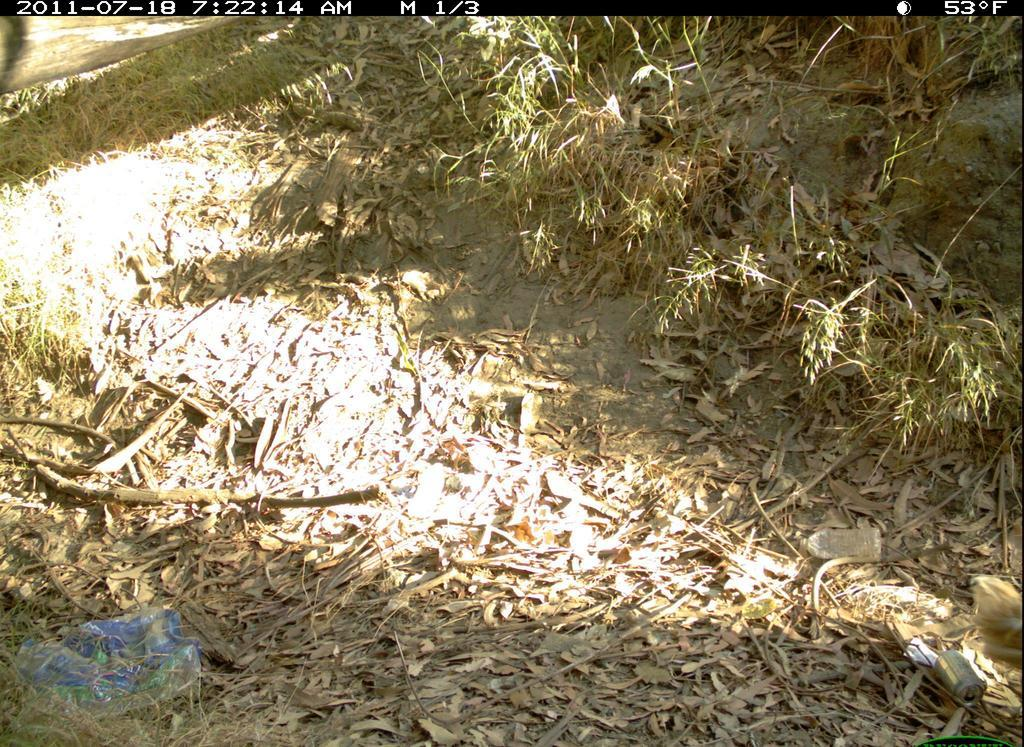bird: (962, 565, 1022, 681)
